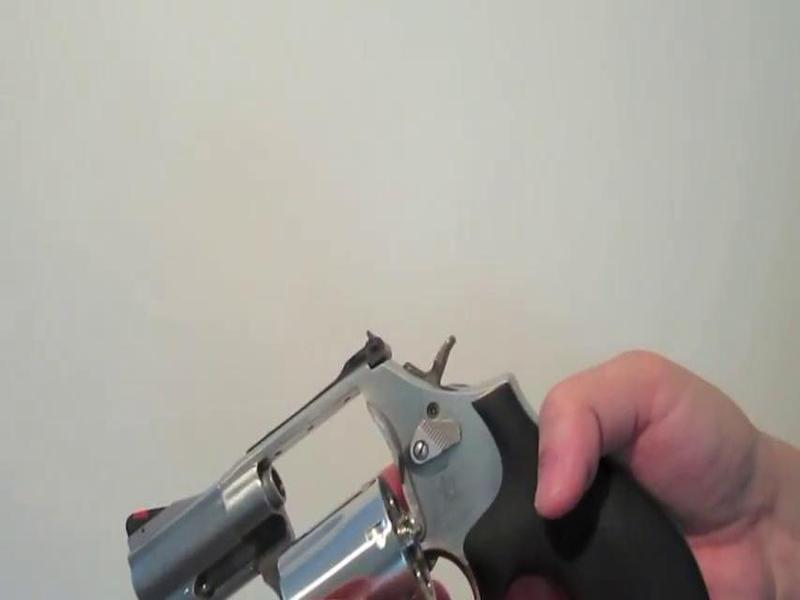Revolver: (116, 304, 713, 600)
